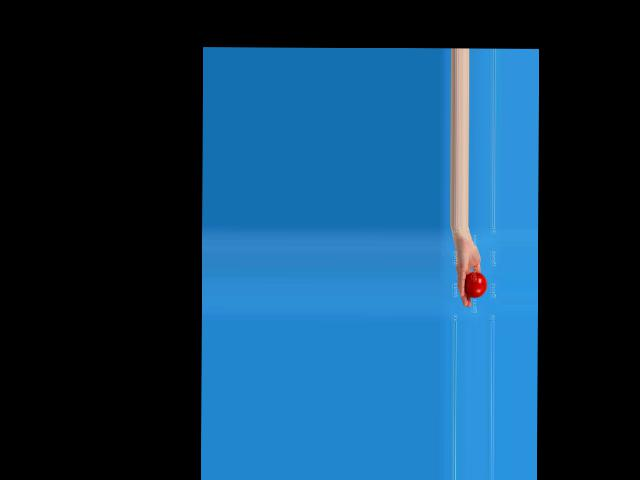tomato: (464, 271, 486, 297)
